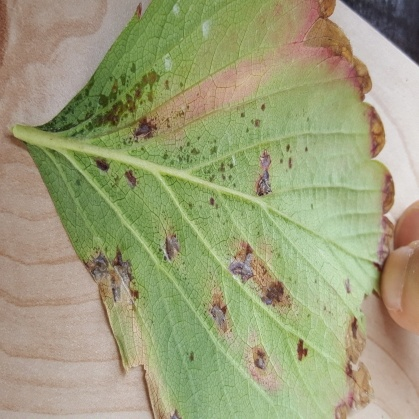Angular_LS: (23, 0, 387, 418)
